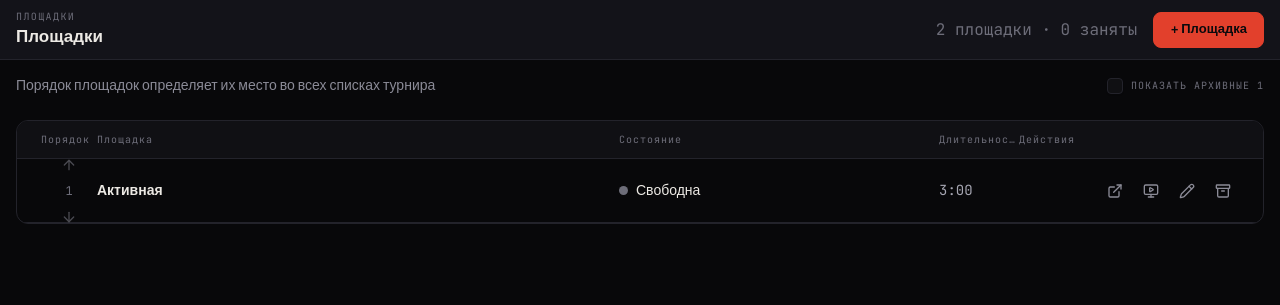
Scenario: ArenasScreen › shows the archived checkbox labelled with the archived count (AC-1)
The image size is (1280, 305).
expect the text "Показать архивные 1" is shown: met, box [1131, 79, 1264, 93]
expect the text "Архивная" is not shown: met
Click the checkbox named "Показать архивные".
click(1115, 86)  # box [1107, 78, 1123, 94]
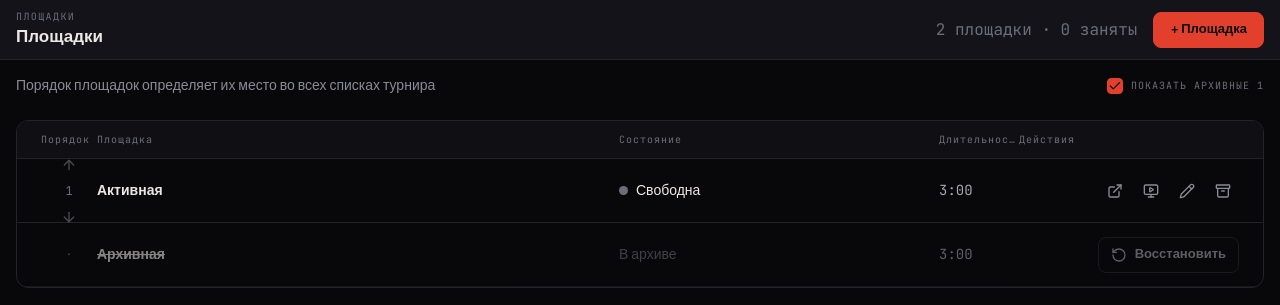
expect the text "Архивная" is shown: met, box [97, 246, 165, 262]
